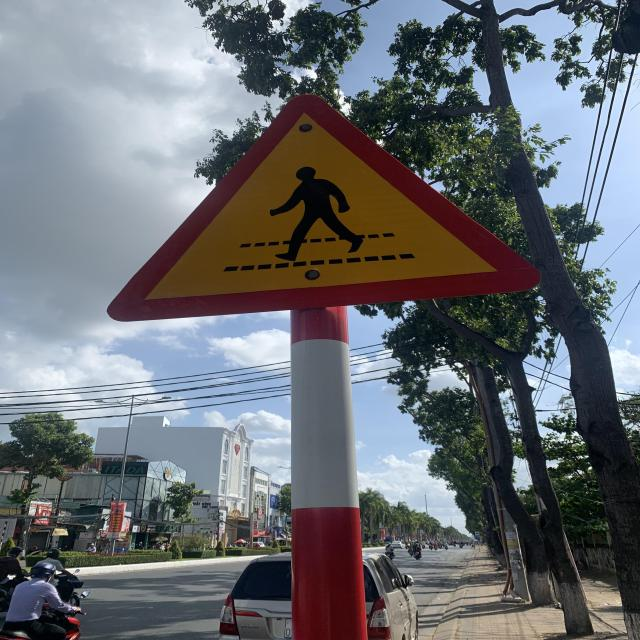Duong_Nguoi_Di_Bo_Sang_Ngang: (106, 94, 541, 324)
